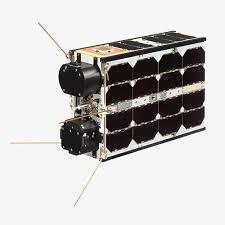antenna: (72, 156, 104, 210), (35, 18, 69, 57), (7, 138, 66, 147)
body: (56, 28, 209, 164)
solar: (103, 45, 208, 156), (105, 27, 201, 54)
